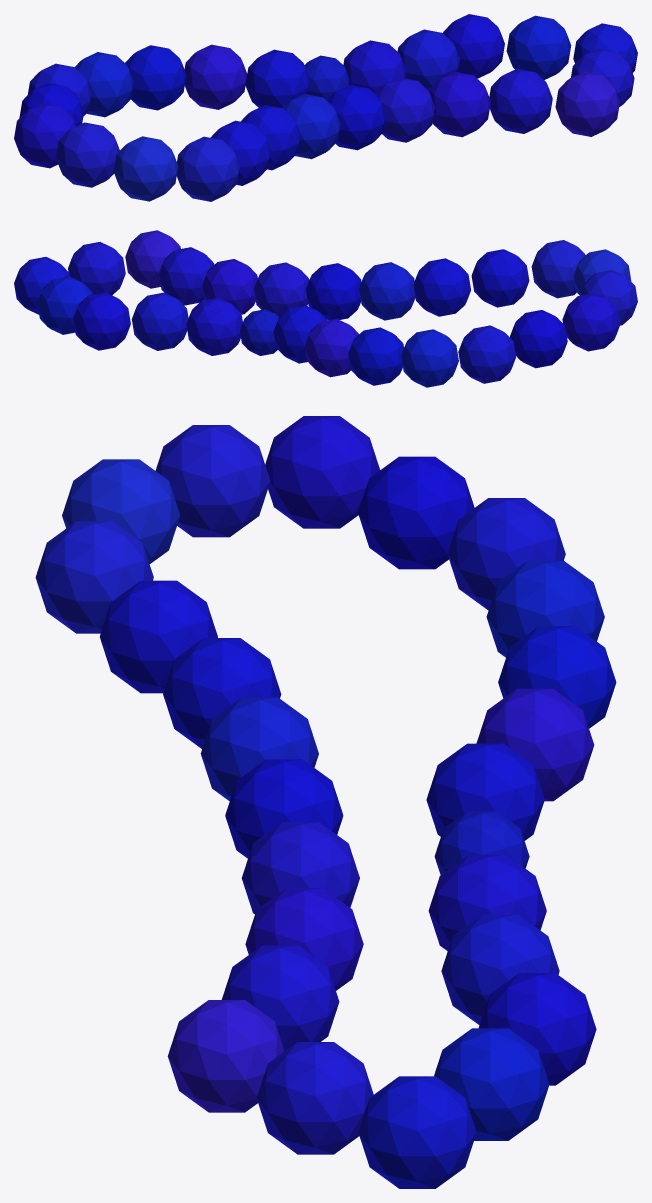
The model's file is Bead$5.fbx.
The picture shows the model from 3 angles, top to bottom: view 1: azimuth 30°, elevation 25°; view 2: azimuth 150°, elevation 25°; view 3: azimuth 270°, elevation 25°; orthographic projection. The views are drawn at different scales.
Visible parts, largest first — view 1: Icosphere.024; view 2: Icosphere.024; view 3: Icosphere.024.
Boxes of the visible parts, x1,y1,x2,y2 form: Icosphere.024: (14, 14, 637, 201); Icosphere.024: (14, 230, 637, 387); Icosphere.024: (35, 416, 616, 1188).
Size of the model in its own units: 1388 by 297 by 609.
